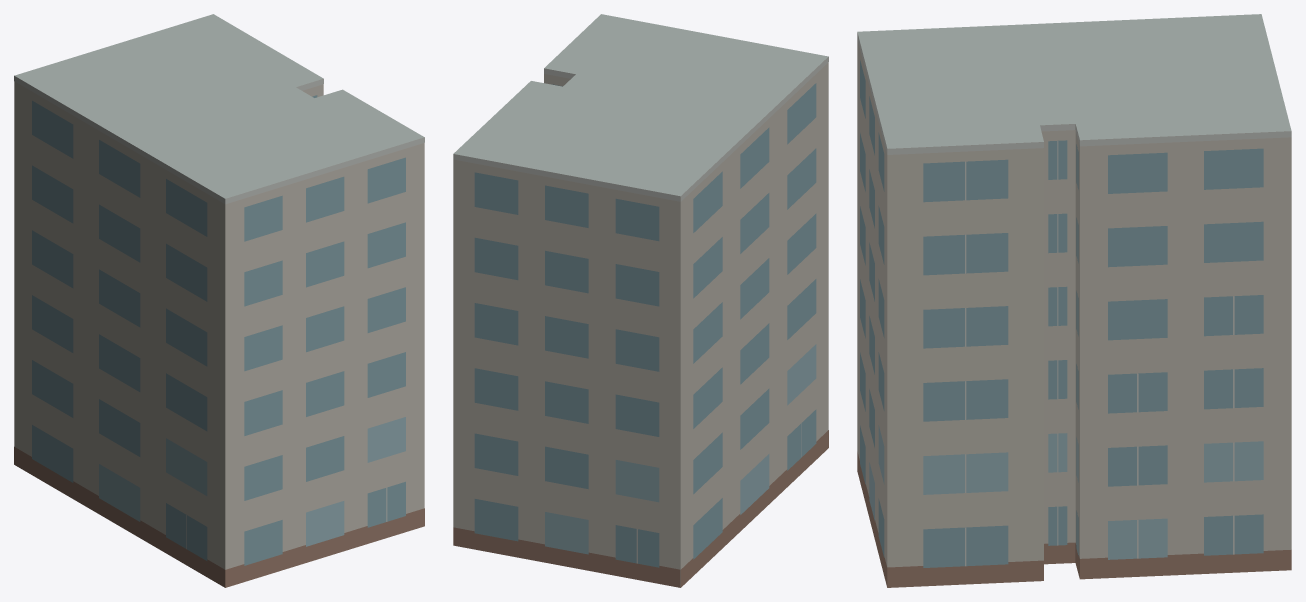
Rendered from survey-upis-32846135.glb.
3 views of the same model, side by side, from view 1: azimuth 30°, elevation 25°; view 2: azimuth 150°, elevation 25°; view 3: azimuth 270°, elevation 25° (orthographic). The views are drawn at different scales.
Visible parts, largest first — view 1: survey-upis-32846135.tmp; view 2: survey-upis-32846135.tmp; view 3: survey-upis-32846135.tmp.
Boxes of the visible parts, bbox=[...] form: survey-upis-32846135.tmp: bbox=[14, 14, 424, 587]; survey-upis-32846135.tmp: bbox=[453, 14, 828, 587]; survey-upis-32846135.tmp: bbox=[857, 14, 1291, 587].
Bounding box in the file's own units: 11.34 × 17.2 × 15.43.
